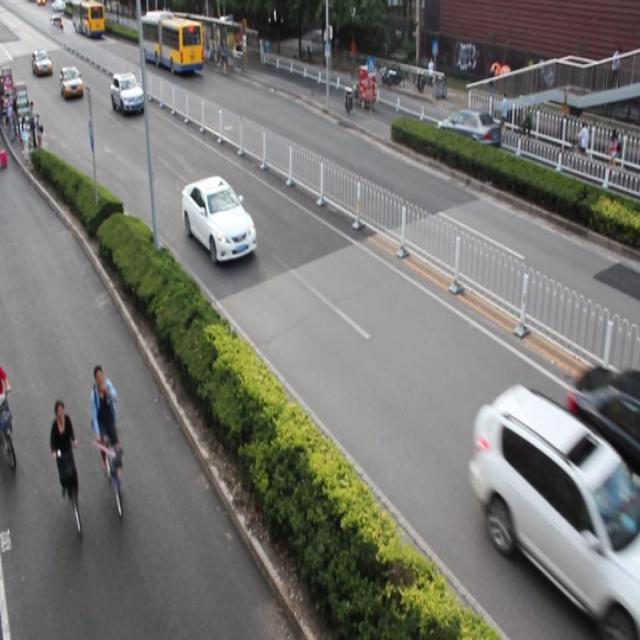car: (470, 385, 640, 628), (566, 364, 640, 506), (181, 175, 255, 262), (434, 106, 498, 161), (109, 72, 143, 114)
van: (137, 10, 203, 71)
